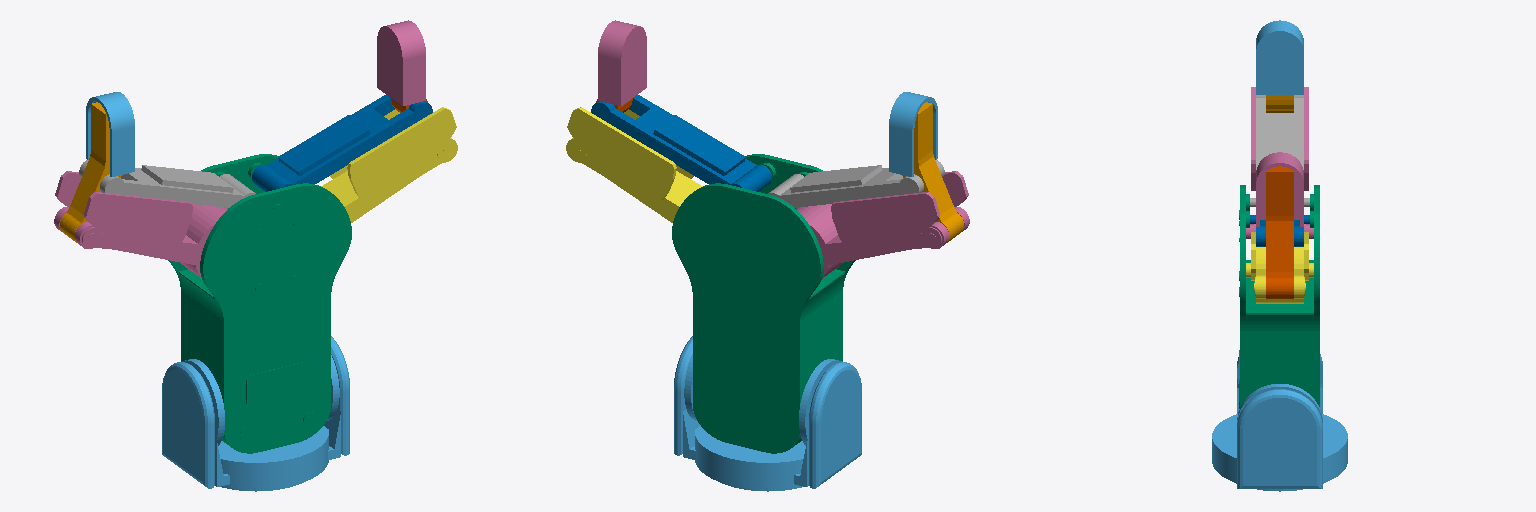
URDF robot description (onrobot_rg6_reference):
<?xml version="1.0"?>
<robot name="onrobot_rg6_reference">
<link name="mount"></link>
<link name="rg6_v2_gripper_bracket"><visual ><geometry ><mesh filename="../meshes/rg6_v2_gripper_bracket.obj"/></geometry></visual><collision ><origin xyz="0 0 0.0086" rpy="0 0 0"/><geometry ><cylinder radius="0.0355" length="0.0172"/></geometry></collision><collision ><origin xyz="0 0 0.0332" rpy="0 0 0"/><geometry ><box size="0.0824 0.0451 0.0571"/></geometry></collision></link>
<link name="rg6_v2_gripper_body"><visual ><geometry ><mesh filename="../meshes/rg6_v2_gripper_body.obj"/></geometry></visual><collision ><origin xyz="0 0 -0.01411" rpy="0 0 0"/><geometry ><box size="0.0601 0.0427 0.0161"/></geometry></collision><collision ><origin xyz="0 0 0.022345" rpy="0 0 0"/><geometry ><box size="0.0602 0.0427 0.057"/></geometry></collision><collision ><origin xyz="0 0 0.058925" rpy="0 0 0"/><geometry ><box size="0.0702 0.0427 0.0163"/></geometry></collision><collision ><origin xyz="0 0 0.075175" rpy="0 0 0"/><geometry ><box size="0.0836 0.0427 0.0163"/></geometry></collision><collision ><origin xyz="0 0 0.0912225" rpy="0 0 0"/><geometry ><box size="0.0836 0.0427 0.0159"/></geometry></collision><collision ><origin xyz="0 0 0.1070675" rpy="0 0 0"/><geometry ><box size="0.0739 0.0427 0.0159"/></geometry></collision></link>
<link name="rg6_v2_gripper_grasp_frame"></link>
<link name="tcp"></link>
<link name="rg6_v2_gripper_finger_1_origin"></link>
<link name="rg6_v2_gripper_finger_1_moment_arm"><visual ><geometry ><mesh filename="../meshes/rg6_v2_gripper_finger_1_moment_arm.obj"/></geometry></visual><collision ><origin xyz="0 0 0" rpy="1.57079632679 0 0"/><geometry ><cylinder radius="0.0175" length="0.027"/></geometry></collision><collision ><origin xyz="0 0 0" rpy="1.57079632679 0 0"/><geometry ><cylinder radius="0.004" length="0.0372"/></geometry></collision><collision ><origin xyz="-0.05503 0 0.05807" rpy="1.57079632679 0 0"/><geometry ><cylinder radius="0.0063" length="0.027"/></geometry></collision><collision ><origin xyz="-0.0288554976198 0 0.0259718435448" rpy="0 -0.758525765425 0"/><geometry ><box size="0.0112 0.025 0.0534"/></geometry></collision><collision ><origin xyz="-0.0496638382173 0 0.0524073975155" rpy="0 -0.758525765425 0"/><geometry ><box size="0.0126 0.025 0.0157"/></geometry></collision><collision ><origin xyz="-0.0314304432141 -0.0138 0.0499145283396" rpy="0 -0.758525765425 0"/><geometry ><box size="0.0239 0.0024 0.0607"/></geometry></collision><collision ><origin xyz="-0.0314304432141 0.0138 0.0499145283396" rpy="0 -0.758525765425 0"/><geometry ><box size="0.0239 0.0024 0.0607"/></geometry></collision></link>
<link name="rg6_v2_gripper_finger_1_truss_arm"><visual ><geometry ><mesh filename="../meshes/rg6_v2_gripper_finger_1_truss_arm.obj"/></geometry></visual><collision ><origin xyz="0 0 0" rpy="1.57079632679 0 0"/><geometry ><cylinder radius="0.0055" length="0.025"/></geometry></collision><collision ><origin xyz="0 0 0" rpy="1.57079632679 0 0"/><geometry ><cylinder radius="0.0025" length="0.0358"/></geometry></collision><collision ><origin xyz="-0.05503 0 0.05807" rpy="1.57079632679 0 0"/><geometry ><cylinder radius="0.0056" length="0.025"/></geometry></collision><collision ><origin xyz="-0.0220112677936 0 0.0232272273446" rpy="0 -0.758525765425 0"/><geometry ><box size="0.007 0.025 0.064"/></geometry></collision><collision ><origin xyz="-0.0491823417343 0 0.0518993019174" rpy="0 -0.758525765425 0"/><geometry ><box size="0.0112 0.025 0.0171"/></geometry></collision><collision ><origin xyz="-0.0178393315734 0 0.0258030666591" rpy="0 -0.758525765425 0"/><geometry ><box size="0.0027 0.02 0.042"/></geometry></collision></link>
<link name="rg6_v2_gripper_finger_1_finger_tip"><visual ><geometry ><mesh filename="../meshes/rg6_v2_gripper_finger_1_finger_tip.obj"/></geometry></visual><collision ><origin xyz="-0.00665 0 0.00429" rpy="0 0 0"/><geometry ><box size="0.0259 0.0144 0.0674"/></geometry></collision><collision ><origin xyz="-0.0133 0 -0.0231" rpy="1.57079632679 0 0"/><geometry ><cylinder radius="0.0027" length="0.0248"/></geometry></collision><collision ><origin xyz="0 0 0" rpy="1.57079632679 0 0"/><geometry ><cylinder radius="0.0027" length="0.0248"/></geometry></collision></link>
<link name="rg6_v2_gripper_finger_1_flex_finger"><visual ><geometry ><mesh filename="../meshes/rg6_v2_gripper_finger_1_flex_finger.obj"/></geometry></visual><collision ><origin xyz="-0.006575 0 0" rpy="0 0 0"/><geometry ><box size="0.01315 0.025 0.037"/></geometry></collision></link>
<link name="rg6_v2_gripper_finger_2_origin"></link>
<link name="rg6_v2_gripper_finger_2_moment_arm"><visual ><geometry ><mesh filename="../meshes/rg6_v2_gripper_finger_2_moment_arm.obj"/></geometry></visual><collision ><origin xyz="0 0 0" rpy="1.57079632679 0 0"/><geometry ><cylinder radius="0.0175" length="0.027"/></geometry></collision><collision ><origin xyz="0 0 0" rpy="1.57079632679 0 0"/><geometry ><cylinder radius="0.004" length="0.0372"/></geometry></collision><collision ><origin xyz="-0.05503 0 0.05807" rpy="1.57079632679 0 0"/><geometry ><cylinder radius="0.0063" length="0.027"/></geometry></collision><collision ><origin xyz="-0.0288554976198 0 0.0259718435448" rpy="0 -0.758525765425 0"/><geometry ><box size="0.0112 0.025 0.0534"/></geometry></collision><collision ><origin xyz="-0.0496638382173 0 0.0524073975155" rpy="0 -0.758525765425 0"/><geometry ><box size="0.0126 0.025 0.0157"/></geometry></collision><collision ><origin xyz="-0.0314304432141 -0.0138 0.0499145283396" rpy="0 -0.758525765425 0"/><geometry ><box size="0.0239 0.0024 0.0607"/></geometry></collision><collision ><origin xyz="-0.0314304432141 0.0138 0.0499145283396" rpy="0 -0.758525765425 0"/><geometry ><box size="0.0239 0.0024 0.0607"/></geometry></collision></link>
<link name="rg6_v2_gripper_finger_2_truss_arm"><visual ><geometry ><mesh filename="../meshes/rg6_v2_gripper_finger_2_truss_arm.obj"/></geometry></visual><collision ><origin xyz="0 0 0" rpy="1.57079632679 0 0"/><geometry ><cylinder radius="0.0055" length="0.025"/></geometry></collision><collision ><origin xyz="0 0 0" rpy="1.57079632679 0 0"/><geometry ><cylinder radius="0.0025" length="0.0358"/></geometry></collision><collision ><origin xyz="-0.05503 0 0.05807" rpy="1.57079632679 0 0"/><geometry ><cylinder radius="0.0056" length="0.025"/></geometry></collision><collision ><origin xyz="-0.0220112677936 0 0.0232272273446" rpy="0 -0.758525765425 0"/><geometry ><box size="0.007 0.025 0.064"/></geometry></collision><collision ><origin xyz="-0.0491823417343 0 0.0518993019174" rpy="0 -0.758525765425 0"/><geometry ><box size="0.0112 0.025 0.0171"/></geometry></collision><collision ><origin xyz="-0.0178393315734 0 0.0258030666591" rpy="0 -0.758525765425 0"/><geometry ><box size="0.0027 0.02 0.042"/></geometry></collision></link>
<link name="rg6_v2_gripper_finger_2_finger_tip"><visual ><geometry ><mesh filename="../meshes/rg6_v2_gripper_finger_2_finger_tip.obj"/></geometry></visual><collision ><origin xyz="-0.00665 0 0.00429" rpy="0 0 0"/><geometry ><box size="0.0259 0.0144 0.0674"/></geometry></collision><collision ><origin xyz="-0.0133 0 -0.0231" rpy="1.57079632679 0 0"/><geometry ><cylinder radius="0.0027" length="0.0248"/></geometry></collision><collision ><origin xyz="0 0 0" rpy="1.57079632679 0 0"/><geometry ><cylinder radius="0.0027" length="0.0248"/></geometry></collision></link>
<link name="rg6_v2_gripper_finger_2_flex_finger"><visual ><geometry ><mesh filename="../meshes/rg6_v2_gripper_finger_2_flex_finger.obj"/></geometry></visual><collision ><origin xyz="-0.006575 0 0" rpy="0 0 0"/><geometry ><box size="0.01315 0.025 0.037"/></geometry></collision></link>
<joint name="rg6_v2_gripper_bracket_joint" type="fixed"><parent link="mount"/><child link="rg6_v2_gripper_bracket"/><origin xyz="0 0 0" rpy="0 0 0"/></joint>
<joint name="rg6_v2_gripper_body_joint" type="fixed"><parent link="rg6_v2_gripper_bracket"/><child link="rg6_v2_gripper_body"/><origin xyz="0 0 0.0392" rpy="0 0 0"/></joint>
<joint name="rg6_v2_gripper_grasp_frame_joint" type="fixed"><parent link="rg6_v2_gripper_body"/><child link="rg6_v2_gripper_grasp_frame"/><origin xyz="0 0 0.212790661239" rpy="0 0 0"/></joint>
<joint name="tcp_joint" type="fixed"><parent link="rg6_v2_gripper_grasp_frame"/><child link="tcp"/><origin xyz="0 0 0" rpy="0 0 0"/></joint>
<joint name="rg6_v2_gripper_finger_1_origin_joint" type="fixed"><parent link="rg6_v2_gripper_body"/><child link="rg6_v2_gripper_finger_1_origin"/><origin xyz="0 0 0" rpy="0 0 0"/></joint>
<joint name="rg6_v2_gripper_joint" type="revolute"><parent link="rg6_v2_gripper_finger_1_origin"/><child link="rg6_v2_gripper_finger_1_moment_arm"/><origin xyz="-0.0238 0 0.084892" rpy="0 -0.486700298502 0"/><axis xyz="0 1 0"/><limit lower="0" upper="1.2352262299095726" velocity="0.5" effort="10"/></joint>
<joint name="rg6_v2_gripper_finger_1_truss_arm_joint" type="revolute"><parent link="rg6_v2_gripper_finger_1_origin"/><child link="rg6_v2_gripper_finger_1_truss_arm"/><origin xyz="-0.0105 0 0.107992" rpy="0 -0.486700298502 0"/><axis xyz="0 1 0"/><limit lower="0" upper="1.2352262299095726" velocity="0.5" effort="10"/><mimic joint="rg6_v2_gripper_joint" multiplier="1" offset="0"/></joint>
<joint name="rg6_v2_gripper_finger_1_finger_tip_joint" type="revolute"><parent link="rg6_v2_gripper_finger_1_truss_arm"/><child link="rg6_v2_gripper_finger_1_finger_tip"/><origin xyz="-0.05503 0 0.05807" rpy="0 0.486700298502 0"/><axis xyz="0 -1 0"/><limit lower="0" upper="1.2352262299095726" effort="10" velocity="0.5"/><mimic joint="rg6_v2_gripper_joint" multiplier="1" offset="0"/></joint>
<joint name="rg6_v2_gripper_finger_1_flex_finger_joint" type="fixed"><parent link="rg6_v2_gripper_finger_1_finger_tip"/><child link="rg6_v2_gripper_finger_1_flex_finger"/><origin xyz="0.0113 0 0.0248" rpy="0 0 0"/></joint>
<joint name="rg6_v2_gripper_finger_2_origin_joint" type="fixed"><parent link="rg6_v2_gripper_body"/><child link="rg6_v2_gripper_finger_2_origin"/><origin xyz="0 0 0" rpy="0 0 3.14159265359"/></joint>
<joint name="rg6_v2_gripper_mirror_joint" type="revolute"><parent link="rg6_v2_gripper_finger_2_origin"/><child link="rg6_v2_gripper_finger_2_moment_arm"/><origin xyz="-0.0238 0 0.084892" rpy="0 -0.486700298502 0"/><axis xyz="0 1 0"/><limit lower="0" upper="1.2352262299095726" velocity="0.5" effort="10"/><mimic joint="rg6_v2_gripper_joint" multiplier="1" offset="0"/></joint>
<joint name="rg6_v2_gripper_finger_2_truss_arm_joint" type="revolute"><parent link="rg6_v2_gripper_finger_2_origin"/><child link="rg6_v2_gripper_finger_2_truss_arm"/><origin xyz="-0.0105 0 0.107992" rpy="0 -0.486700298502 0"/><axis xyz="0 1 0"/><limit lower="0" upper="1.2352262299095726" velocity="0.5" effort="10"/><mimic joint="rg6_v2_gripper_joint" multiplier="1" offset="0"/></joint>
<joint name="rg6_v2_gripper_finger_2_finger_tip_joint" type="revolute"><parent link="rg6_v2_gripper_finger_2_truss_arm"/><child link="rg6_v2_gripper_finger_2_finger_tip"/><origin xyz="-0.05503 0 0.05807" rpy="0 0.486700298502 0"/><axis xyz="0 -1 0"/><limit lower="0" upper="1.2352262299095726" effort="10" velocity="0.5"/><mimic joint="rg6_v2_gripper_joint" multiplier="1" offset="0"/></joint>
<joint name="rg6_v2_gripper_finger_2_flex_finger_joint" type="fixed"><parent link="rg6_v2_gripper_finger_2_finger_tip"/><child link="rg6_v2_gripper_finger_2_flex_finger"/><origin xyz="0.0113 0 0.0248" rpy="0 0 0"/></joint>
</robot>

--- Render facts (derived) ---
Views: 3 orthographic renders of the robot side by side, from view 1: azimuth 30°, elevation 25°; view 2: azimuth 150°, elevation 25°; view 3: azimuth 270°, elevation 25°.
Model onrobot_rg6_reference with 15 links and 14 joints (6 revolute, 8 fixed), rooted at mount, posed every joint at zero.
Visible links, largest first — view 1: rg6_v2_gripper_body, rg6_v2_gripper_bracket, rg6_v2_gripper_finger_1_moment_arm, rg6_v2_gripper_finger_2_moment_arm, rg6_v2_gripper_finger_2_truss_arm, rg6_v2_gripper_finger_1_truss_arm, rg6_v2_gripper_finger_2_flex_finger, rg6_v2_gripper_finger_1_finger_tip, rg6_v2_gripper_finger_1_flex_finger; view 2: rg6_v2_gripper_body, rg6_v2_gripper_bracket, rg6_v2_gripper_finger_1_moment_arm, rg6_v2_gripper_finger_2_moment_arm, rg6_v2_gripper_finger_2_truss_arm, rg6_v2_gripper_finger_1_truss_arm, rg6_v2_gripper_finger_2_flex_finger, rg6_v2_gripper_finger_1_finger_tip, rg6_v2_gripper_finger_1_flex_finger; view 3: rg6_v2_gripper_bracket, rg6_v2_gripper_body, rg6_v2_gripper_finger_2_finger_tip, rg6_v2_gripper_finger_1_flex_finger, rg6_v2_gripper_finger_1_truss_arm, rg6_v2_gripper_finger_2_moment_arm, rg6_v2_gripper_finger_2_flex_finger, rg6_v2_gripper_finger_1_moment_arm, rg6_v2_gripper_finger_2_truss_arm.
Boxes of the visible links, box(x1,y1,x2,y2) form: rg6_v2_gripper_body: box(168, 154, 351, 453); rg6_v2_gripper_bracket: box(162, 336, 349, 491); rg6_v2_gripper_finger_1_moment_arm: box(54, 171, 227, 278); rg6_v2_gripper_finger_2_moment_arm: box(321, 107, 457, 222); rg6_v2_gripper_finger_2_truss_arm: box(252, 95, 432, 191); rg6_v2_gripper_finger_1_truss_arm: box(79, 160, 255, 207); rg6_v2_gripper_finger_2_flex_finger: box(377, 20, 425, 105); rg6_v2_gripper_finger_1_finger_tip: box(60, 102, 120, 242); rg6_v2_gripper_finger_1_flex_finger: box(86, 92, 134, 176); rg6_v2_gripper_body: box(672, 154, 855, 453); rg6_v2_gripper_bracket: box(674, 336, 861, 491); rg6_v2_gripper_finger_1_moment_arm: box(796, 171, 969, 278); rg6_v2_gripper_finger_2_moment_arm: box(566, 107, 702, 222); rg6_v2_gripper_finger_2_truss_arm: box(591, 95, 771, 191); rg6_v2_gripper_finger_1_truss_arm: box(768, 160, 944, 207); rg6_v2_gripper_finger_2_flex_finger: box(598, 20, 646, 105); rg6_v2_gripper_finger_1_finger_tip: box(903, 102, 963, 242); rg6_v2_gripper_finger_1_flex_finger: box(889, 92, 937, 176); rg6_v2_gripper_bracket: box(1212, 354, 1347, 491); rg6_v2_gripper_body: box(1239, 185, 1319, 408); rg6_v2_gripper_finger_2_finger_tip: box(1266, 166, 1293, 298); rg6_v2_gripper_finger_1_flex_finger: box(1256, 20, 1303, 94); rg6_v2_gripper_finger_1_truss_arm: box(1250, 95, 1309, 206); rg6_v2_gripper_finger_2_moment_arm: box(1246, 232, 1313, 303); rg6_v2_gripper_finger_2_flex_finger: box(1256, 152, 1303, 226); rg6_v2_gripper_finger_1_moment_arm: box(1246, 87, 1313, 238); rg6_v2_gripper_finger_2_truss_arm: box(1250, 215, 1309, 246).
Size in the robot's own frame: 0.2118 by 0.071 by 0.2161 metres.
Meshes: 10 distinct files referenced, 10 mesh visuals loaded (10 OBJ).
